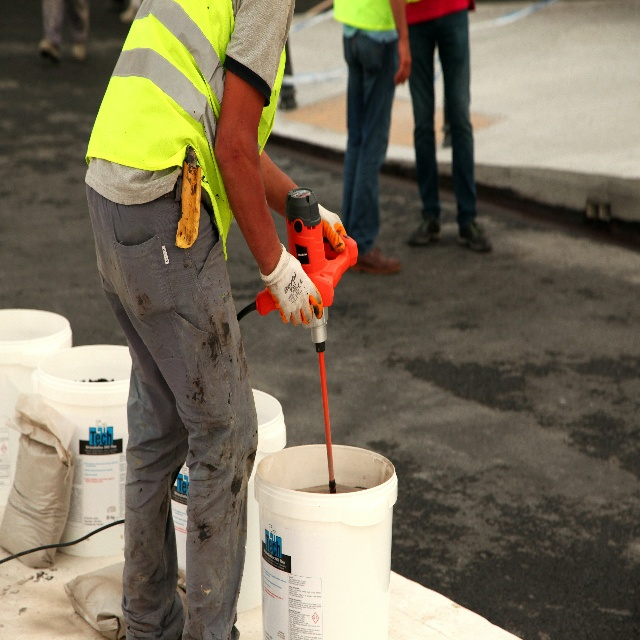Guantes: (260, 244, 325, 329), (318, 199, 348, 255)
Sin_guantes: (392, 34, 412, 85)
